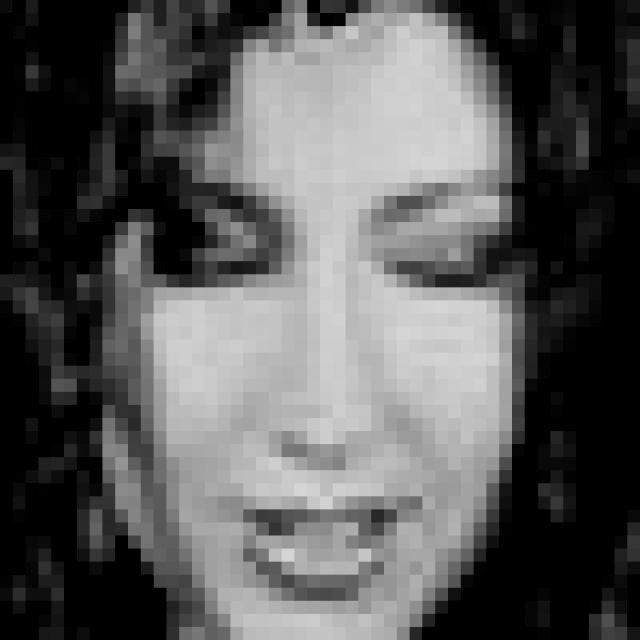real: (100, 0, 530, 640), (132, 192, 507, 308)
